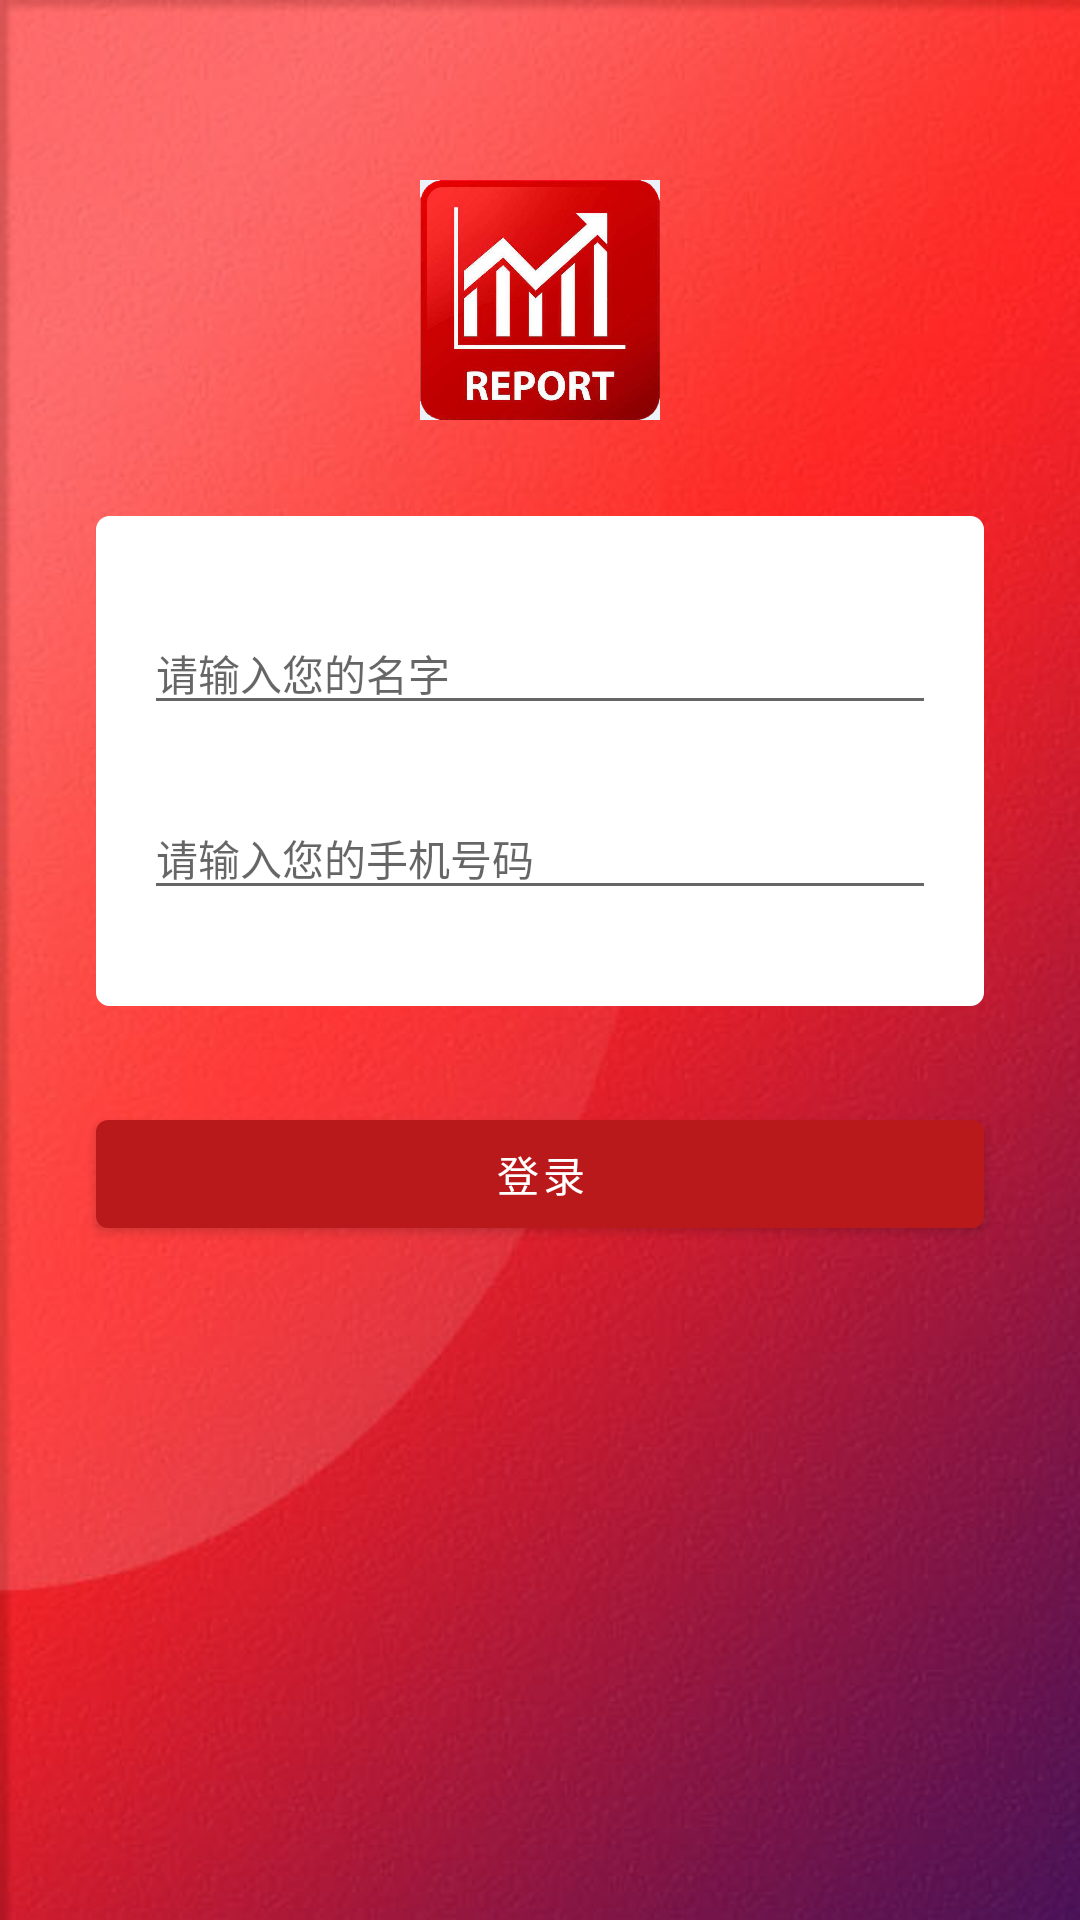

Icons on this 1080x1920 Android screen, each with the point to tap as [x,y]:
app: [540,300]
